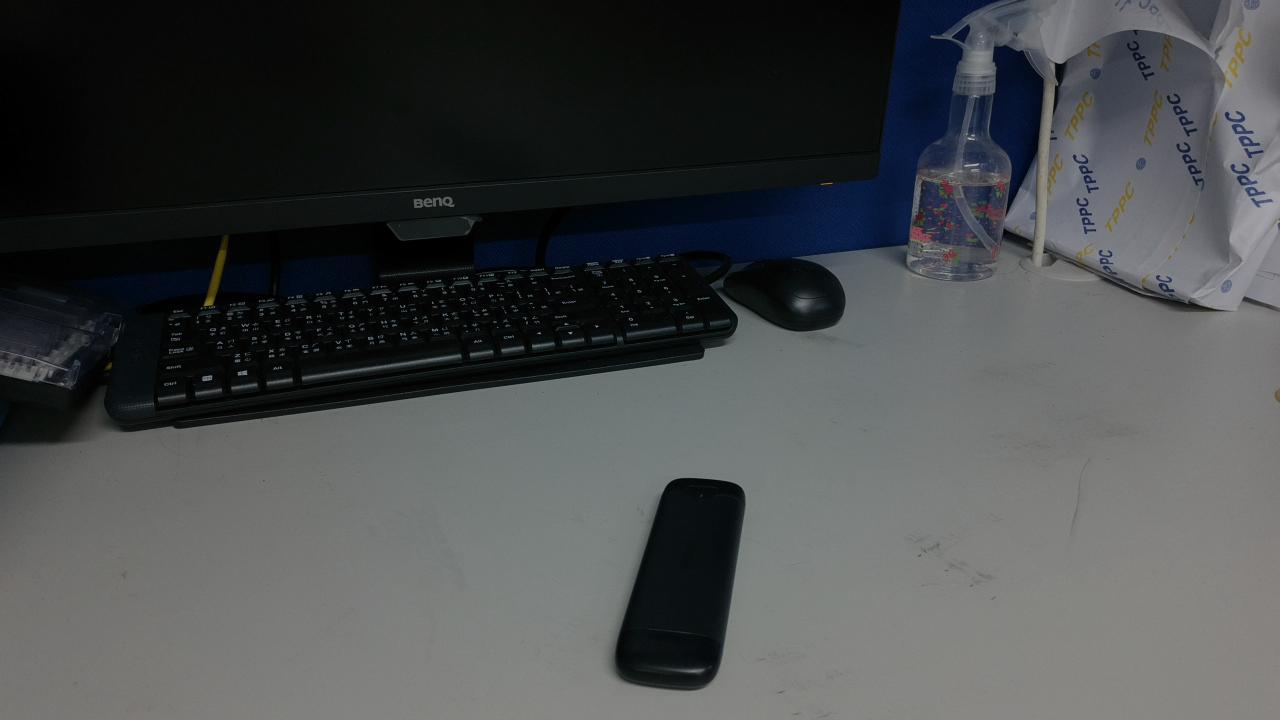blade: (768, 577, 857, 618)
grasp: (570, 487, 794, 617)
